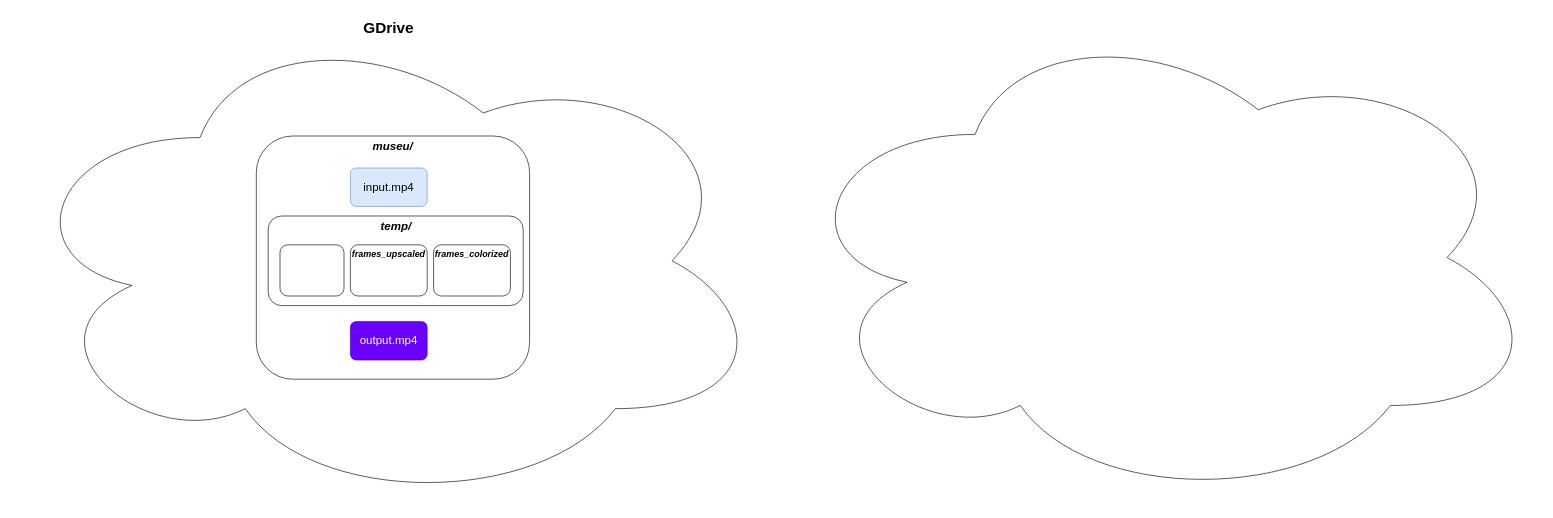
This 1553x518 diagram has some shape labels left out. The centre of each missing label's shape, as x and y in pixels:
frames_input: pixel 311 270
Oracle: pixel 1163 257
